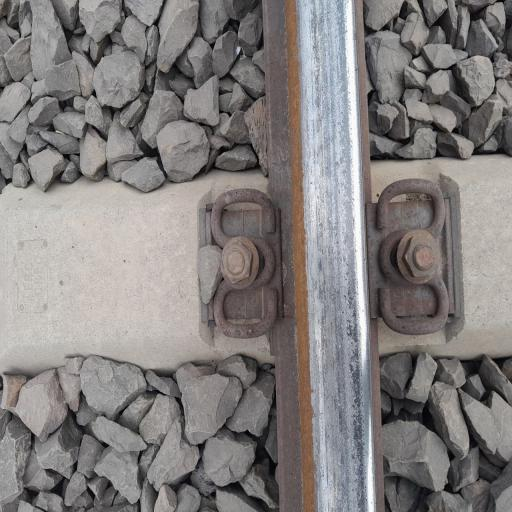bolt: (395, 223, 451, 292), (214, 230, 258, 294)
clip: (376, 162, 471, 354)
rail: (276, 15, 384, 480), (192, 168, 290, 347)
